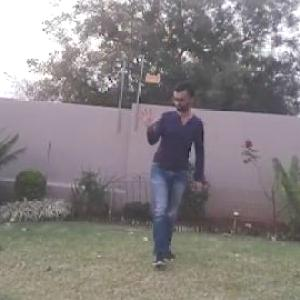follow_hand: (135, 102, 161, 130)
